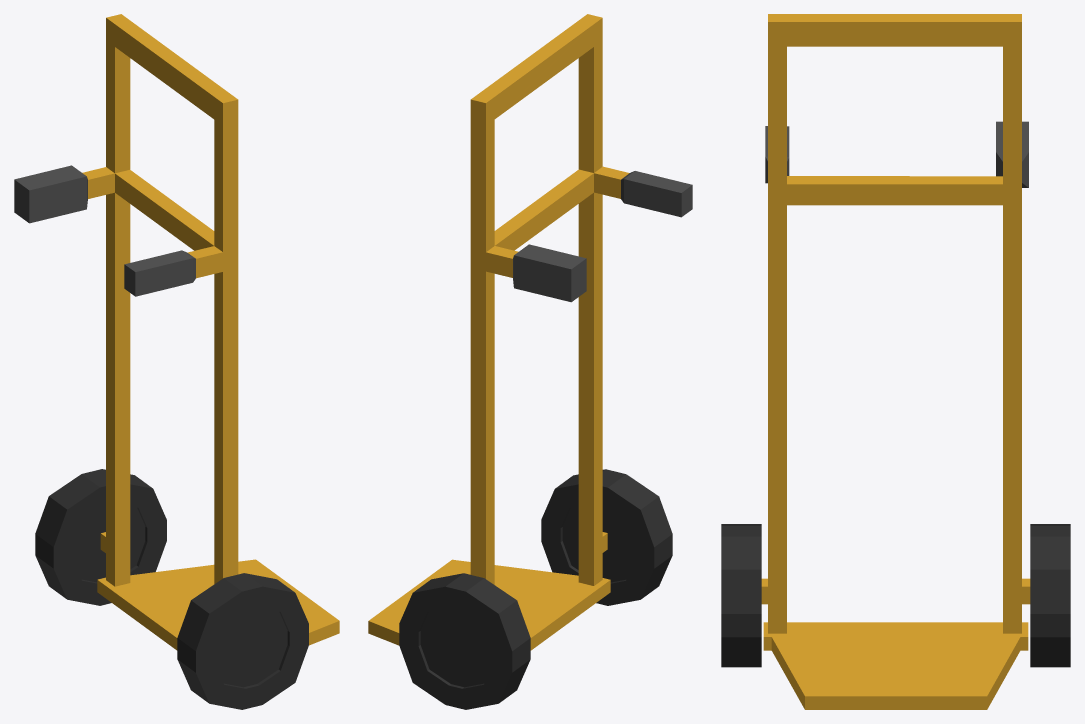
3 views of the same model, side by side, from view 1: azimuth 30°, elevation 25°; view 2: azimuth 150°, elevation 25°; view 3: azimuth 270°, elevation 25° (orthographic). The views are drawn at different scales.
Parts seen in each view (by area): view 1: G-3, Cube.396, Cube.395; view 2: G-3, Cube.395, Cube.396; view 3: G-3, Cube.395, Cube.396.
Part boxes in pixels (<box>): G-3: <box>14,14,339,650</box>; Cube.396: <box>177,573,308,709</box>; Cube.395: <box>35,469,166,605</box>; G-3: <box>368,14,692,650</box>; Cube.395: <box>399,573,530,709</box>; Cube.396: <box>541,469,672,605</box>; G-3: <box>761,14,1030,709</box>; Cube.395: <box>1030,524,1070,667</box>; Cube.396: <box>721,524,761,667</box>.
Size of the model in its own units: 101 by 256 by 126.
